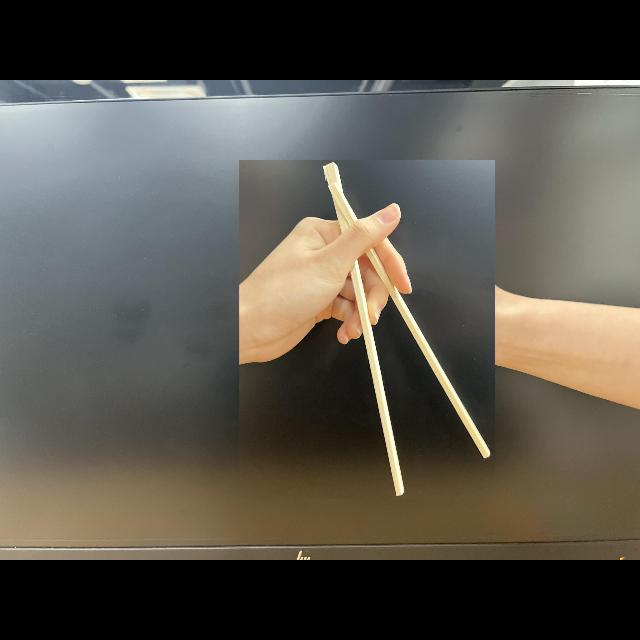stick: (240, 160, 494, 498)
